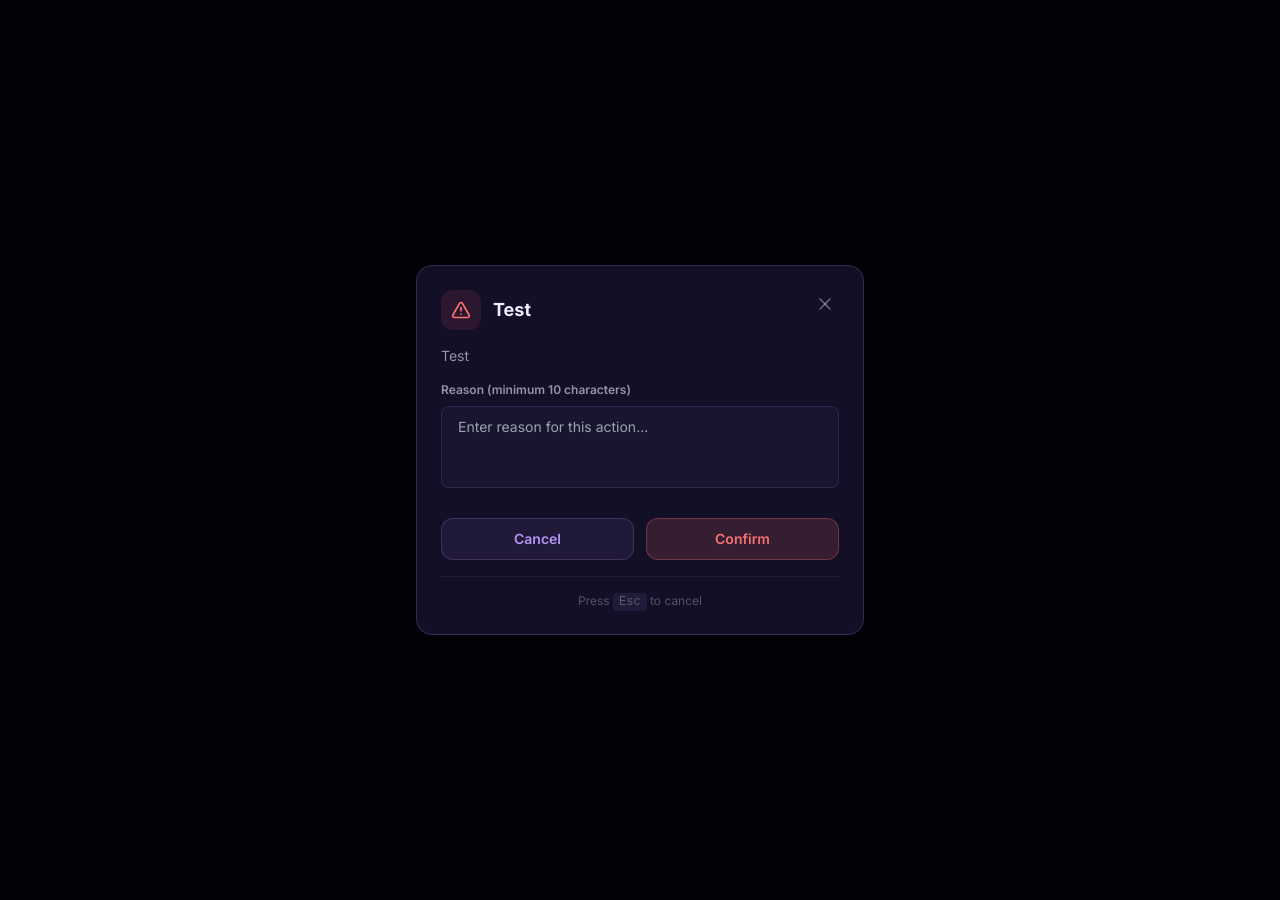
Test: ConfirmationDialog › Validation › should clear error when user starts typing
Trigger error
Click the button "Confirm" at (742, 539), box [646,518,839,560]
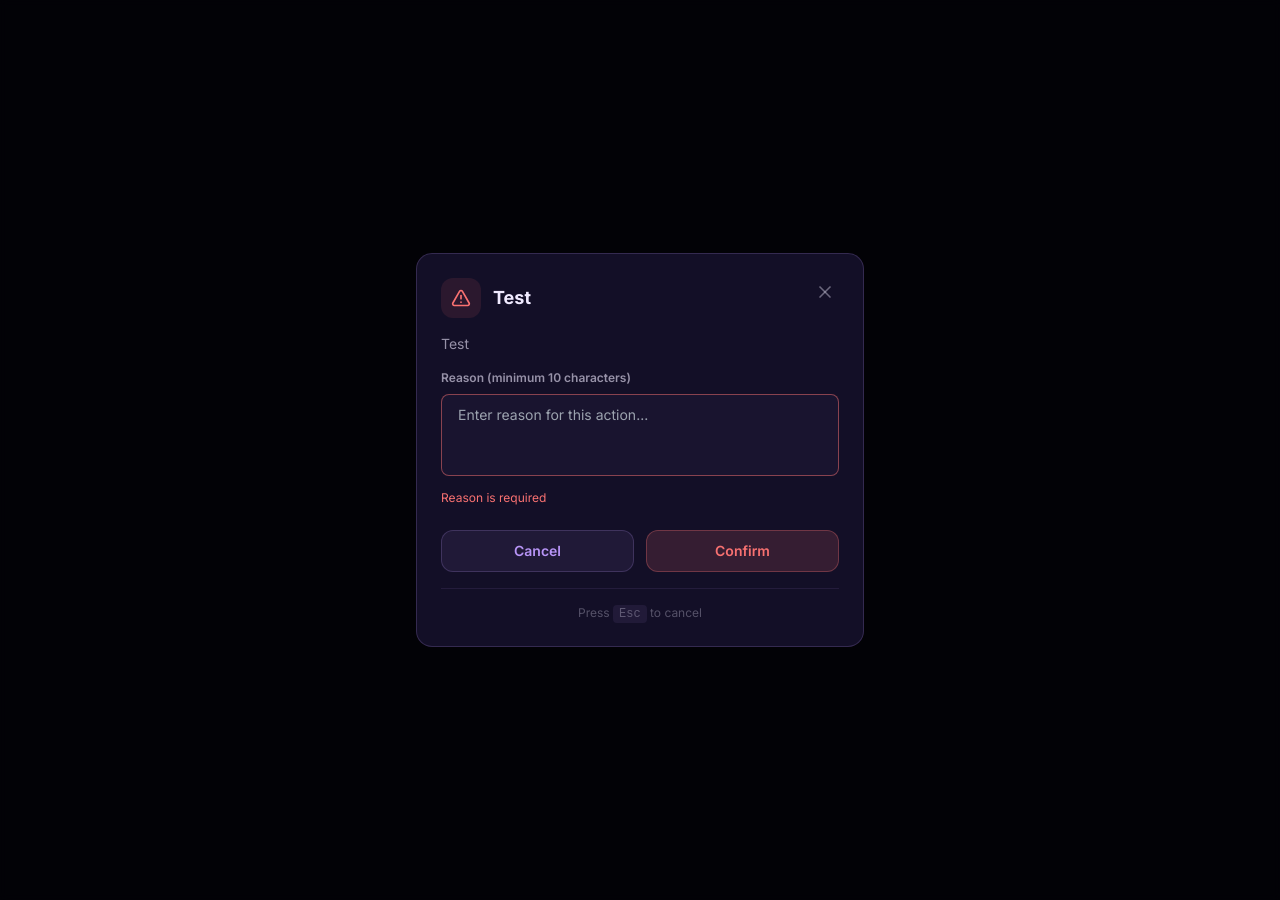
Now the text "Reason is required" is shown, box [441,490,546,505]
Start typing
Type "T" into the text box with placeholder "Enter reason for this action..." at (640, 435), box [441,394,839,476]
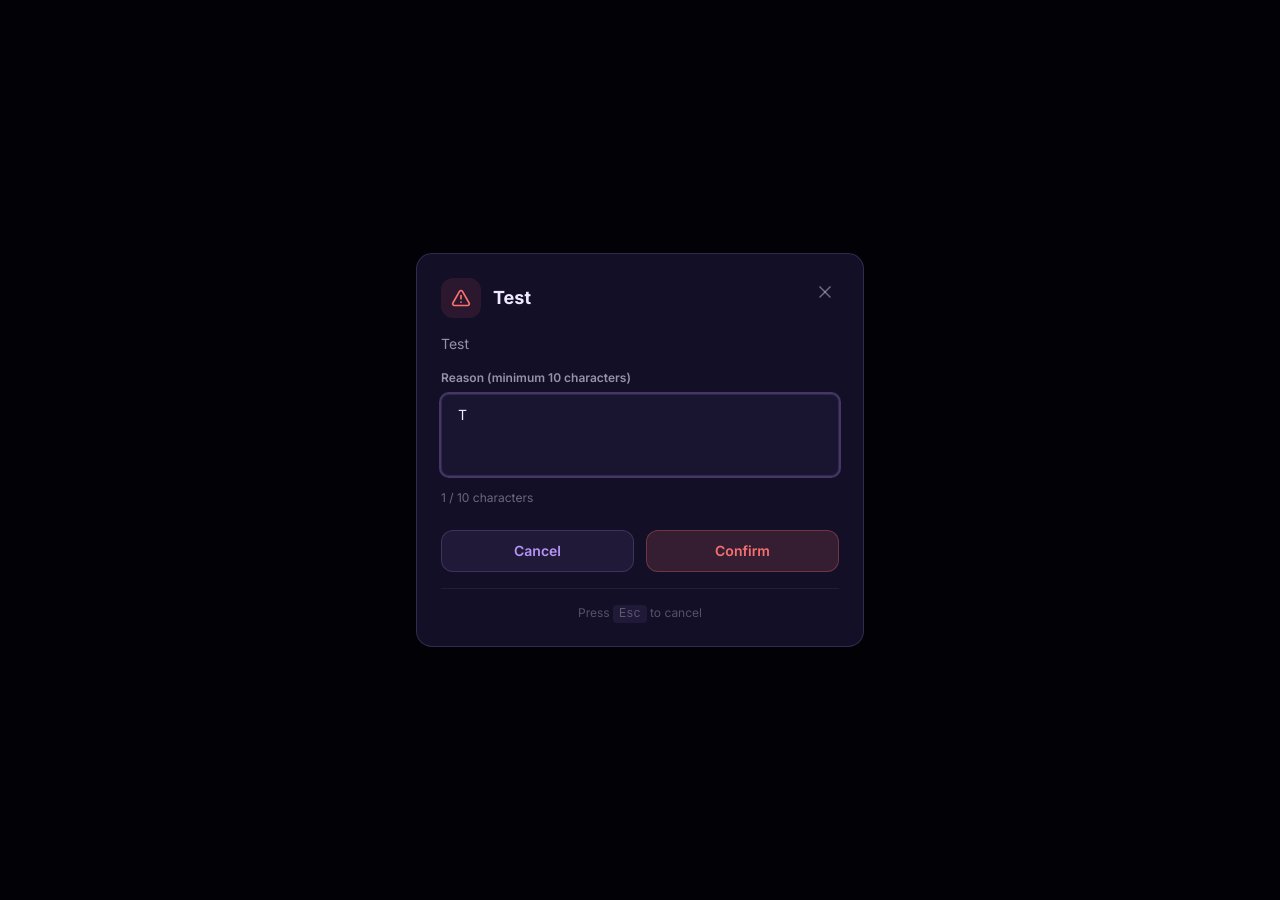
Now the text "Reason is required" is gone
